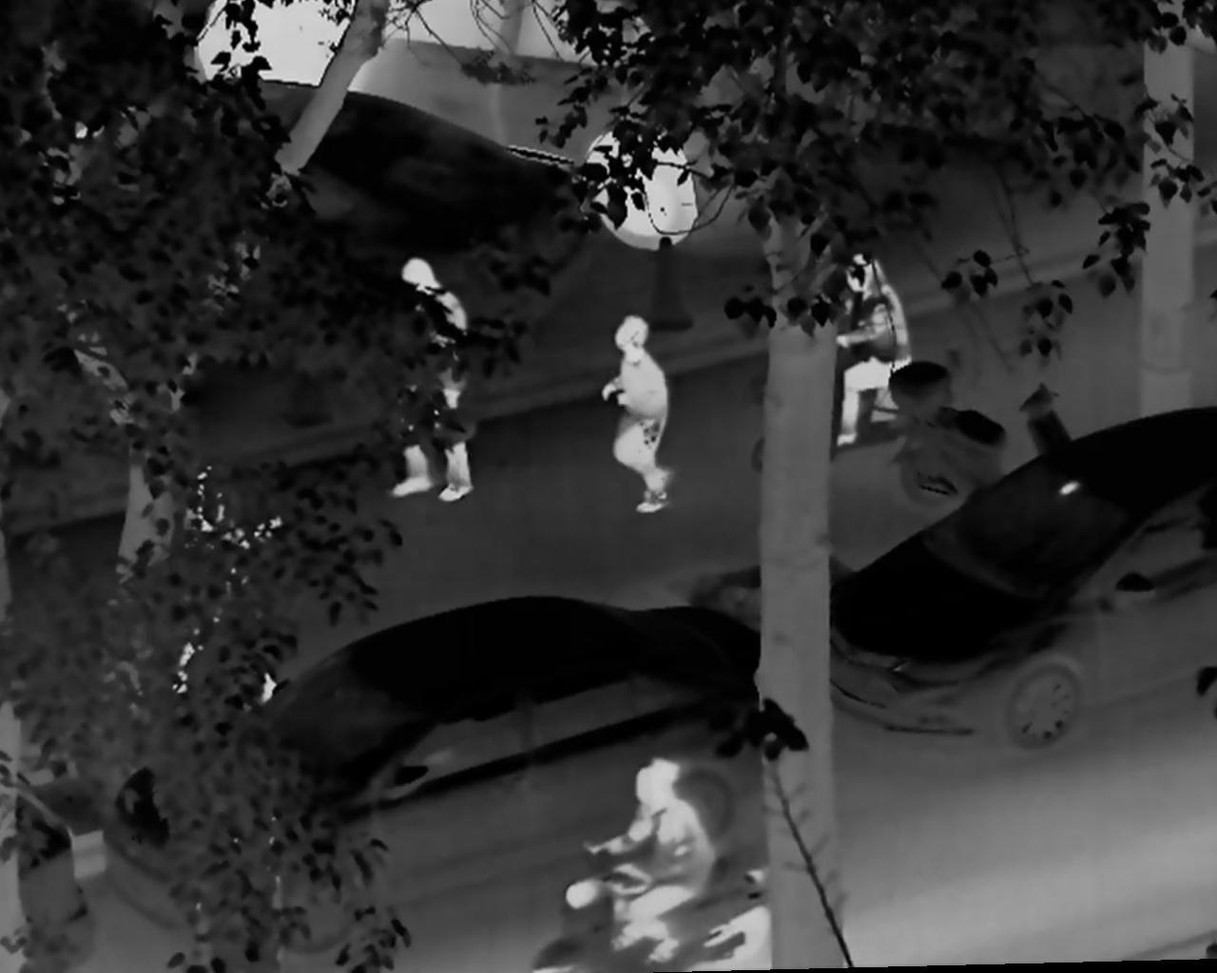person: (169, 469, 290, 712), (367, 256, 481, 509), (587, 755, 713, 960), (587, 314, 678, 520), (829, 251, 915, 451)
